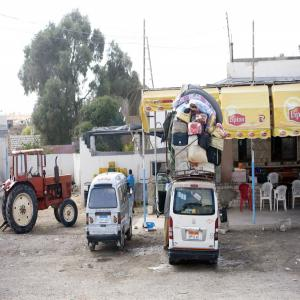Vehicle-registration-plate: (188, 230, 200, 240), (100, 215, 110, 223)
